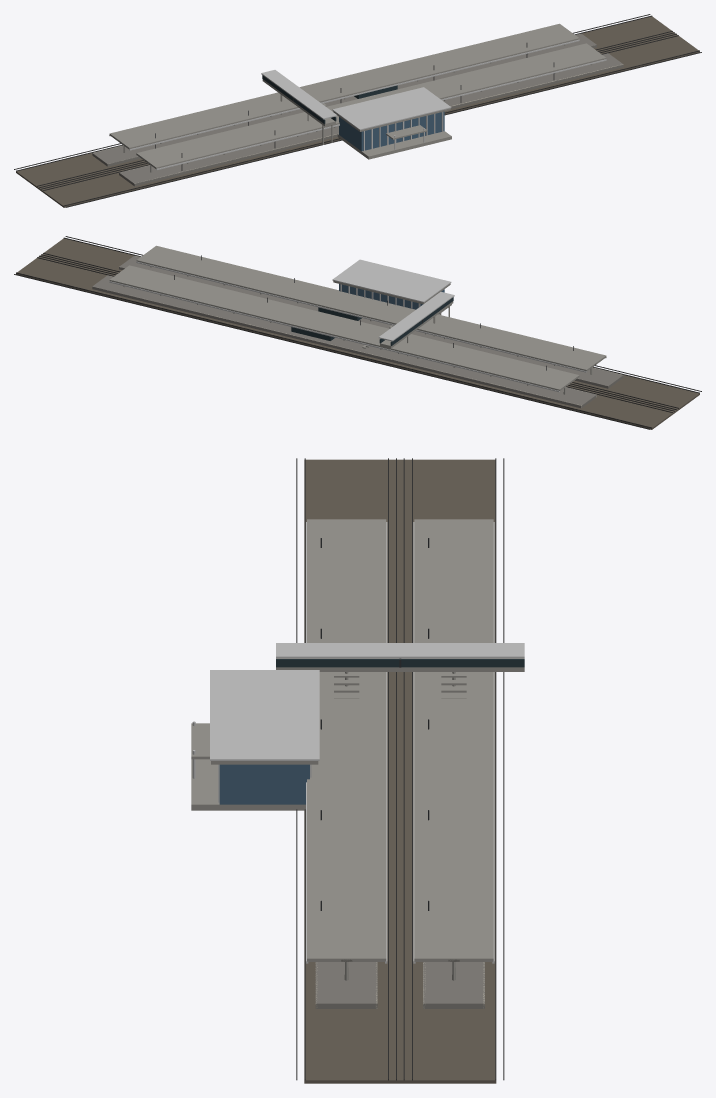
File: suburban_station_b.glb
3 views of the same model, one above another, from view 1: azimuth 30°, elevation 25°; view 2: azimuth 150°, elevation 25°; view 3: azimuth 270°, elevation 25° (orthographic). The views are drawn at different scales.
Visible parts, largest first — view 1: suburban_station_b; view 2: suburban_station_b; view 3: suburban_station_b.
Part boxes in pixels (x1=…): suburban_station_b: x1=14, y1=14, x2=701, y2=207; suburban_station_b: x1=14, y1=236, x2=701, y2=429; suburban_station_b: x1=191, y1=458, x2=524, y2=1083.
Size of the model in its own units: 260 by 12.9 by 59.
